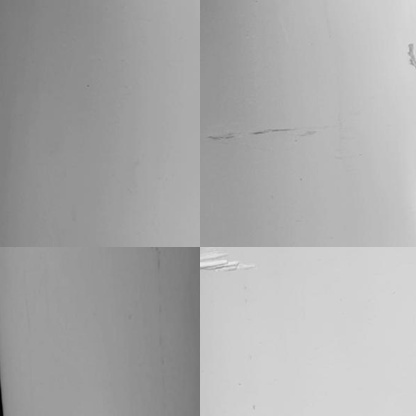sunshang: (197, 247, 255, 276)
